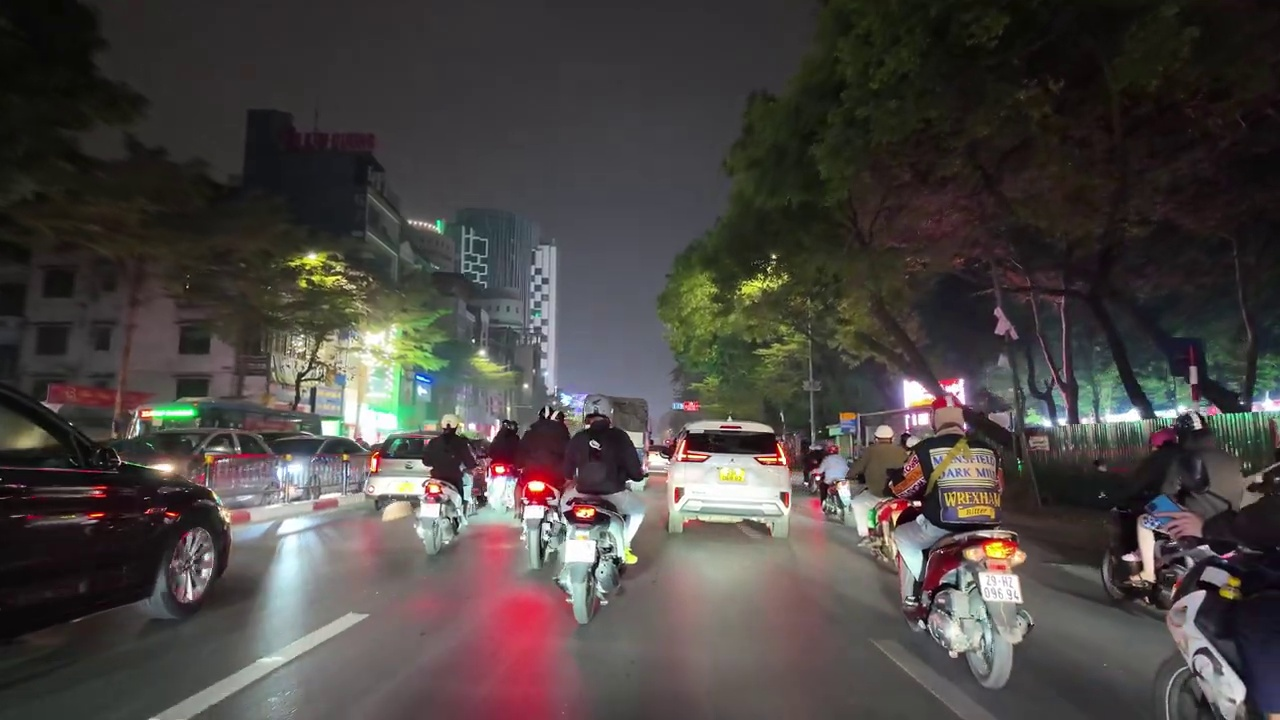acesa: (902, 380, 931, 409)
